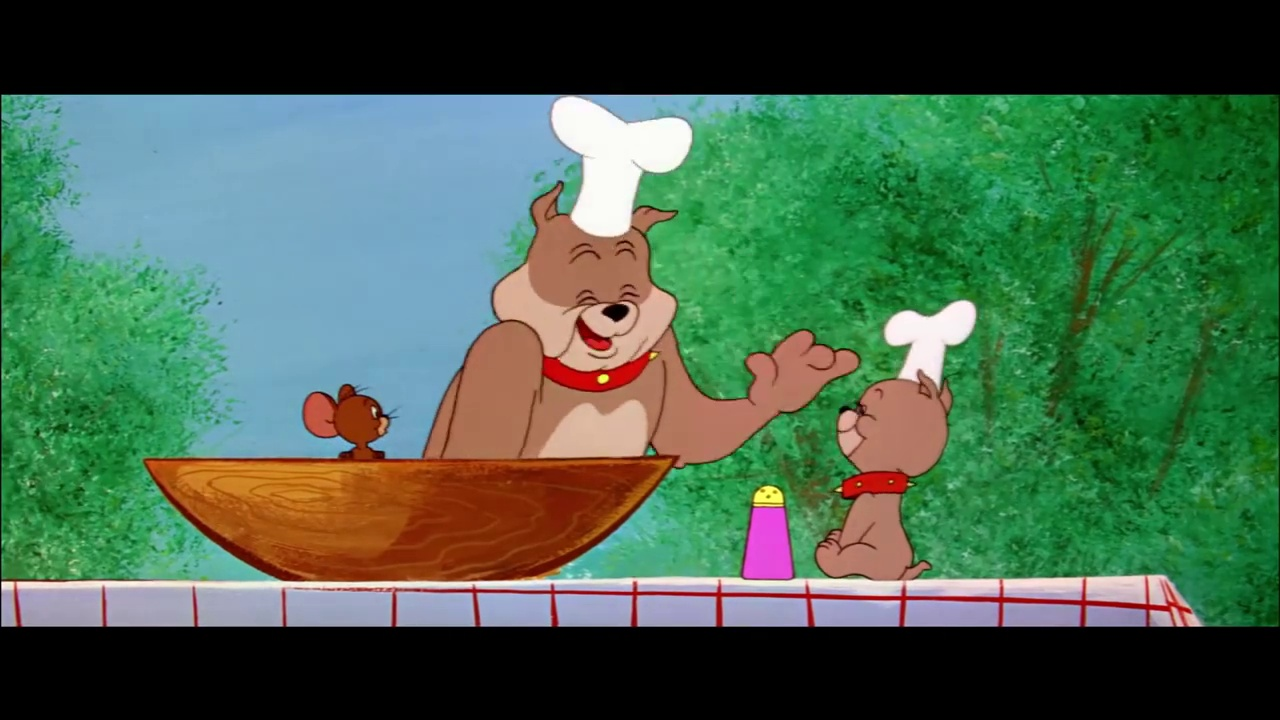spike: (489, 177, 681, 400)
